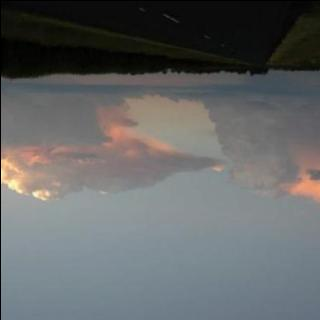Cumulonimbus: (0, 64, 320, 299)
